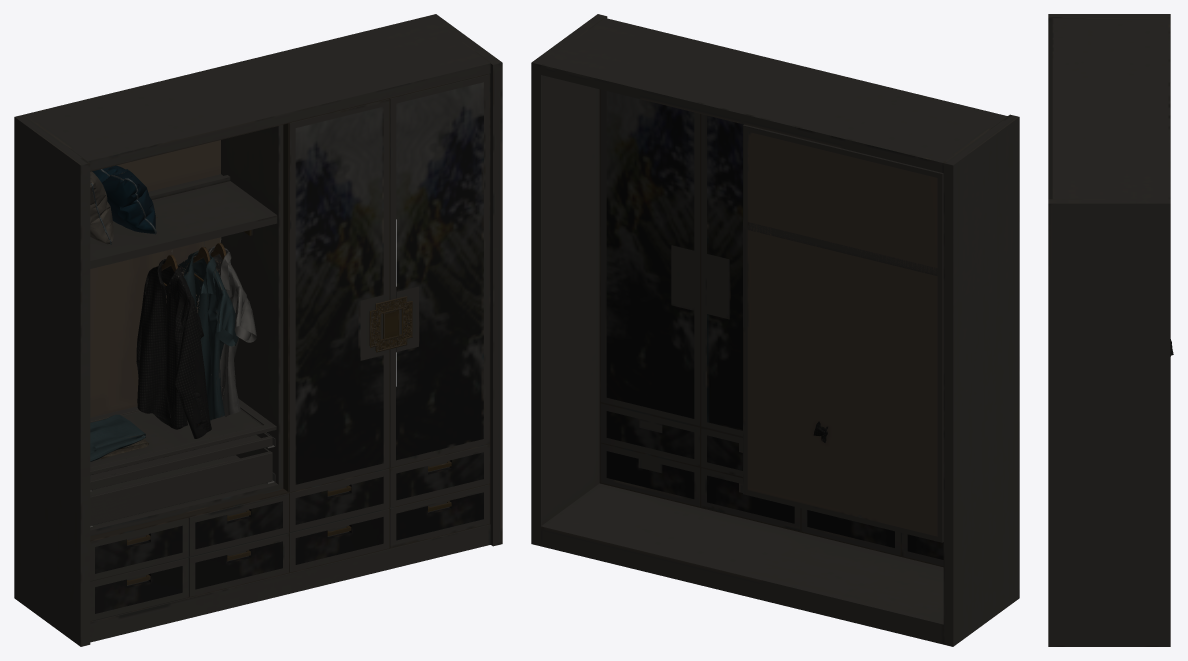
Rendered from storage_unit_armoire_L_shaped_9c34898e-35b5-58dc-917e-94fa2293f844.glb.
The picture shows the model from 3 angles, left to right: view 1: azimuth 30°, elevation 25°; view 2: azimuth 150°, elevation 25°; view 3: azimuth 270°, elevation 25°; orthographic projection. The views are drawn at different scales.
Visible parts, largest first — view 1: raw_model.obj; view 2: raw_model.obj; view 3: raw_model.obj.
Part boxes in pixels (x1,y1,x2,y2): raw_model.obj: [14, 14, 502, 646]; raw_model.obj: [531, 14, 1019, 646]; raw_model.obj: [1048, 14, 1173, 646].
Size of the model in its own units: 2.2 by 2.4 by 0.6138.
1 material, 1 textured.
